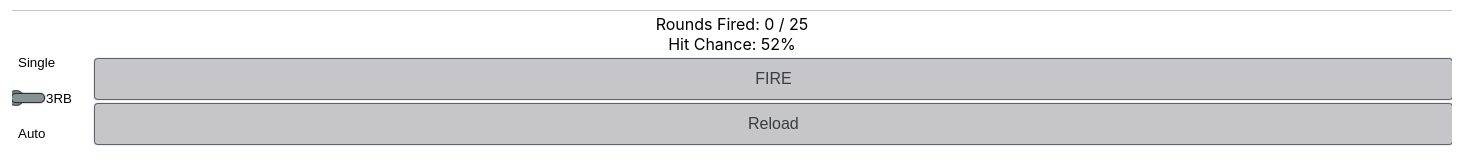
Test: Ammo Used Tally › should reset used rounds when reload button clicked
The image size is (1464, 163).
Click the button "FIRE" at (773, 79), box [95,59,1452,99]
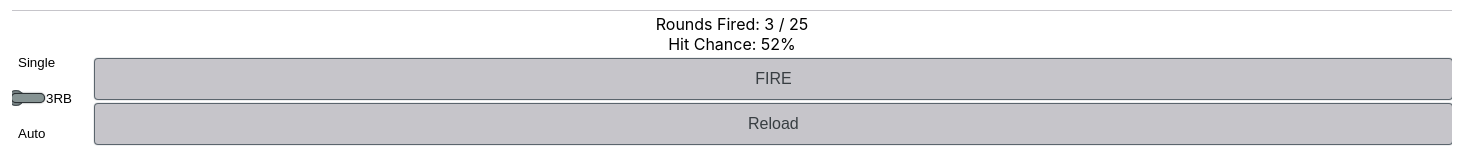
Click the button "FIRE" at (773, 79), box [95,59,1452,99]
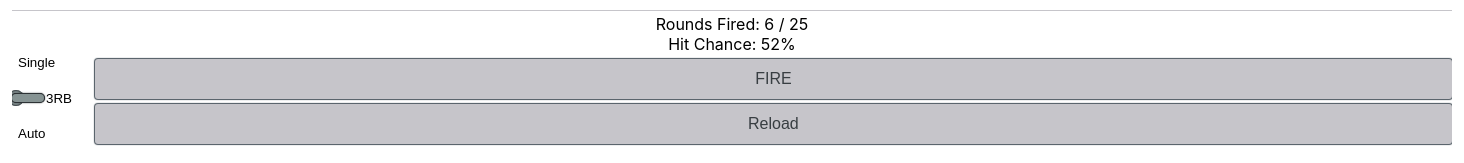
Click the button "Reload" at (773, 124), box [95,104,1452,144]
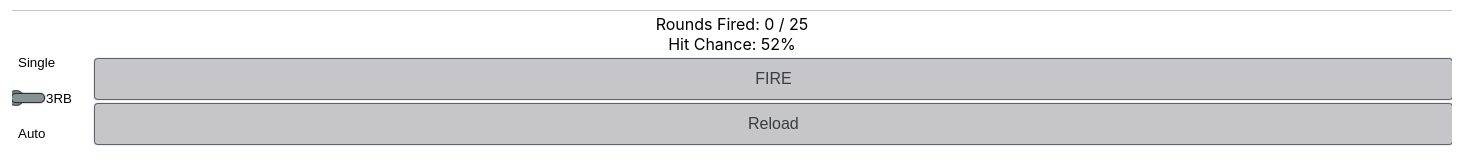
Result: the element with class "firing" shows "Rounds Fired: 0"
